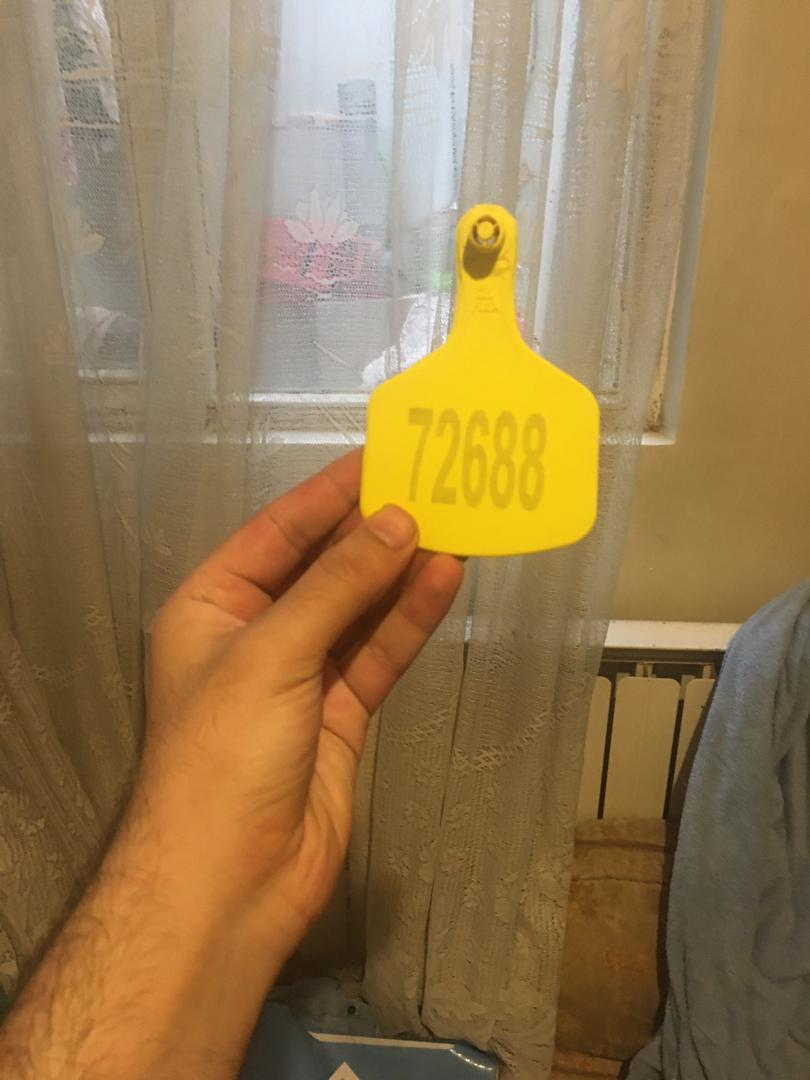digit: (400, 400, 550, 514)
